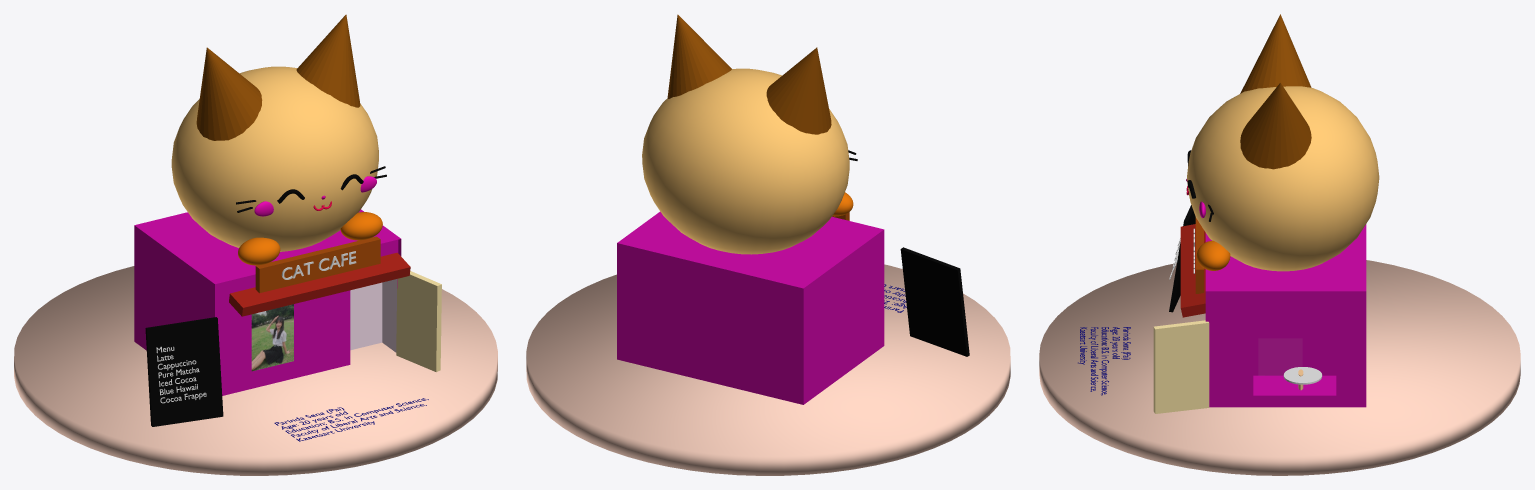
File: catcafe.glb
3 renders of one model, left to right at view 1: azimuth 30°, elevation 25°; view 2: azimuth 150°, elevation 25°; view 3: azimuth 270°, elevation 25°, orthographic.
Visible parts, largest first — view 1: Base_Ground, Cat_Head_Toon, Building_Main, Cube, Cat_Ear_L, Cube.001, Awning, catcafe_Board, Cat_Ear_R, Frame_Selfie, cv, Cat_Paw_L (+2 smaller); view 2: Base_Ground, Building_Main, Cat_Head_Toon, Cube, Cat_Ear_L, Cat_Ear_R; view 3: Base_Ground, Cat_Head_Toon, Building_Main, Cube.001, Cat_Ear_R, Cat_Ear_L, Awning, cv, Cat_Paw_R, Cube, Cylinder, catcafe_Board.
Part boxes in pixels (left/top/right/bottom): Base_Ground: left=14, top=266, right=497, bottom=475; Cat_Head_Toon: left=171, top=66, right=378, bottom=251; Building_Main: left=134, top=209, right=401, bottom=395; Cube: left=145, top=317, right=223, bottom=426; Cat_Ear_L: left=196, top=47, right=262, bottom=140; Cube.001: left=396, top=271, right=441, bottom=371; Awning: left=229, top=252, right=410, bottom=316; catcafe_Board: left=255, top=236, right=380, bottom=293; Cat_Ear_R: left=296, top=14, right=360, bottom=107; Frame_Selfie: left=251, top=304, right=293, bottom=371; cv: left=274, top=398, right=428, bottom=441; Cat_Paw_L: left=238, top=237, right=280, bottom=265; Base_Ground: left=526, top=264, right=1010, bottom=475; Building_Main: left=617, top=211, right=884, bottom=404; Cat_Head_Toon: left=642, top=68, right=849, bottom=254; Cube: left=900, top=247, right=969, bottom=356; Cat_Ear_L: left=766, top=47, right=831, bottom=134; Cat_Ear_R: left=667, top=14, right=731, bottom=98; Base_Ground: left=1039, top=260, right=1520, bottom=475; Cat_Head_Toon: left=1187, top=86, right=1379, bottom=271; Building_Main: left=1205, top=224, right=1366, bottom=407; Cube.001: left=1153, top=320, right=1209, bottom=413; Cat_Ear_R: left=1240, top=83, right=1311, bottom=169; Cat_Ear_L: left=1240, top=14, right=1311, bottom=93; Awning: left=1180, top=224, right=1205, bottom=317; cv: left=1078, top=327, right=1130, bottom=395; Cat_Paw_R: left=1196, top=240, right=1230, bottom=270; Cube: left=1169, top=205, right=1195, bottom=312; Cylinder: left=1283, top=367, right=1322, bottom=384; catcafe_Board: left=1195, top=217, right=1203, bottom=293.
Bounding box in the file's own units: 9 × 6.94 × 9.
Materials: 27 (1 with a texture image).
